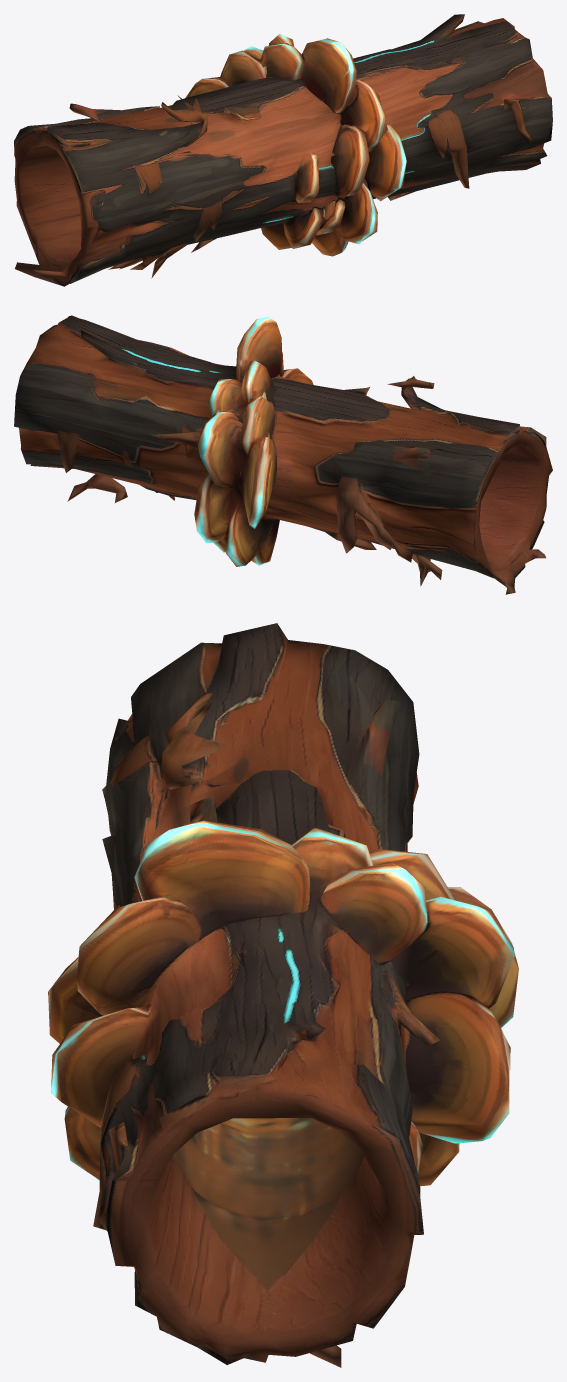
3 views of the same model, one above another, from view 1: azimuth 30°, elevation 25°; view 2: azimuth 150°, elevation 25°; view 3: azimuth 270°, elevation 25° (orthographic). The views are drawn at different scales.
Visible parts, largest first — view 1: Mesh_0; view 2: Mesh_0; view 3: Mesh_0.
Part boxes in pixels (left/top/right/bottom): Mesh_0: left=14, top=14, right=552, bottom=286; Mesh_0: left=14, top=315, right=552, bottom=594; Mesh_0: left=48, top=623, right=518, bottom=1367.
Bounding box in the file's own units: 1.92 × 0.8164 × 0.8007.
1 material, 1 textured.
